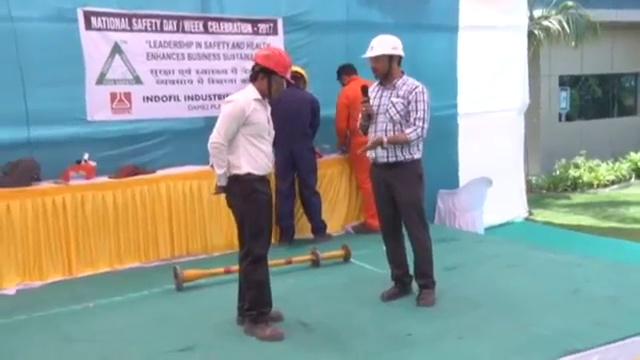helmet: (253, 45, 295, 83), (360, 33, 406, 60), (291, 62, 310, 87)
helmet_off: (335, 61, 358, 86)
helmet_on: (245, 44, 295, 106), (358, 33, 407, 90), (286, 62, 310, 93)
person: (208, 44, 296, 345), (357, 31, 438, 308), (271, 63, 336, 248), (335, 62, 382, 235)
